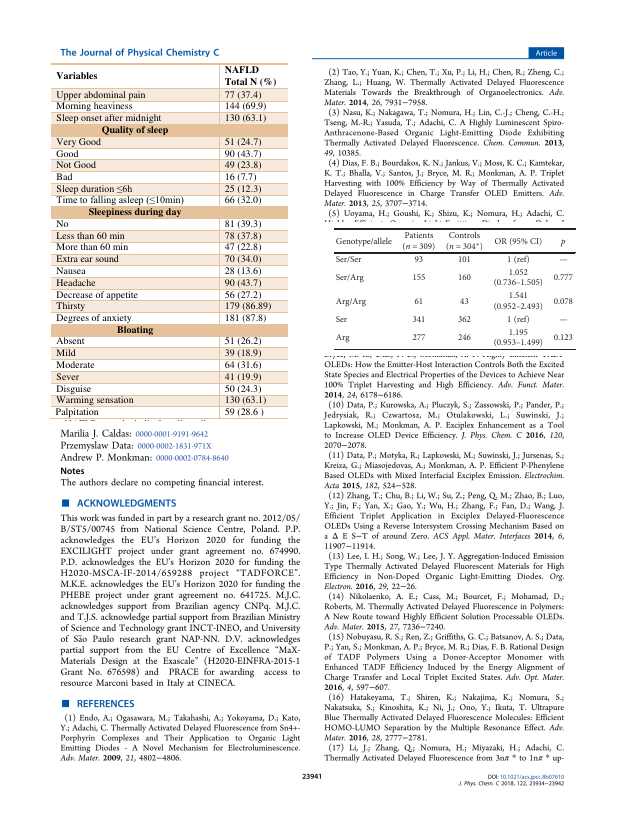borderless: (48, 62, 287, 420), (334, 227, 576, 350)
cell: (55, 193, 184, 208), (55, 112, 162, 125), (223, 64, 277, 89), (87, 206, 182, 219), (55, 89, 146, 102), (55, 182, 133, 197), (55, 288, 138, 302), (492, 268, 543, 289), (492, 291, 543, 312), (492, 328, 543, 349), (55, 394, 134, 407), (55, 100, 133, 113), (55, 312, 132, 325), (55, 241, 128, 254), (55, 230, 125, 243), (100, 124, 169, 137), (55, 253, 119, 266), (445, 231, 484, 252), (401, 231, 436, 252), (334, 236, 392, 247), (223, 300, 272, 313), (55, 136, 101, 149), (54, 406, 99, 419), (223, 100, 267, 113), (223, 112, 267, 125), (223, 312, 267, 325), (223, 394, 267, 407), (55, 70, 98, 83), (493, 236, 543, 247), (223, 147, 262, 161), (223, 288, 262, 302), (115, 323, 154, 337), (223, 382, 262, 396), (55, 159, 96, 172), (55, 277, 96, 290), (223, 406, 264, 419), (55, 359, 95, 372), (55, 382, 92, 396), (223, 89, 262, 102), (223, 136, 262, 149), (223, 159, 262, 172), (223, 183, 262, 196), (223, 194, 262, 207), (223, 218, 262, 231), (223, 230, 262, 243), (223, 241, 262, 254), (223, 253, 262, 266), (223, 265, 262, 278), (223, 277, 262, 290), (223, 335, 262, 348), (223, 347, 262, 360), (223, 359, 262, 372), (223, 371, 262, 384), (223, 171, 257, 184), (55, 265, 86, 278), (55, 300, 86, 313), (55, 335, 85, 348), (334, 296, 367, 307), (55, 147, 79, 161), (55, 371, 79, 384), (334, 273, 364, 283), (334, 255, 362, 265), (55, 347, 76, 360), (506, 255, 530, 265), (506, 315, 530, 325), (55, 171, 73, 184), (552, 296, 573, 307), (552, 333, 573, 344), (552, 273, 573, 283), (55, 218, 69, 231), (334, 333, 350, 344), (411, 333, 426, 344), (457, 333, 472, 344), (457, 255, 472, 265), (411, 273, 426, 283), (457, 273, 472, 283), (411, 315, 426, 325), (457, 315, 472, 325), (334, 315, 348, 325), (413, 296, 424, 307), (413, 255, 424, 265), (459, 296, 469, 307), (560, 238, 566, 247), (558, 259, 568, 263), (558, 319, 568, 323)
